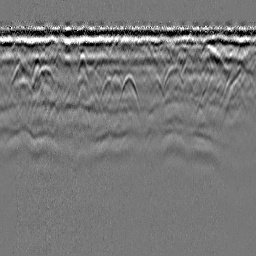cavity: (116, 70, 140, 111)
